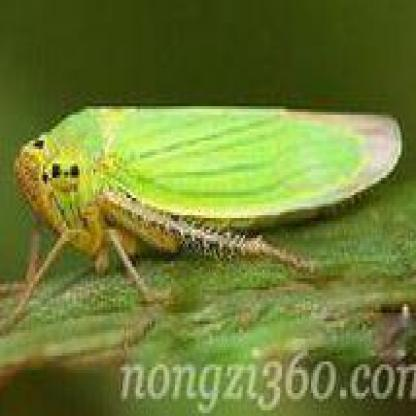Green-Leafhopper: (0, 94, 402, 341)
